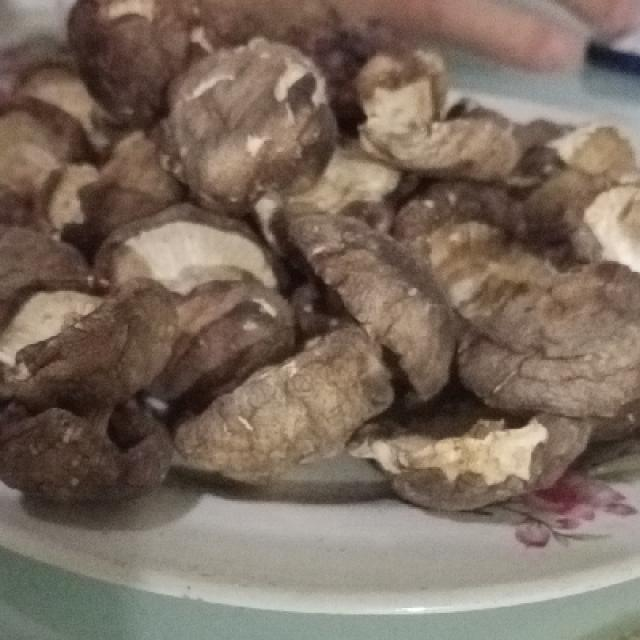Lentinus edodes: (0, 2, 639, 517)
